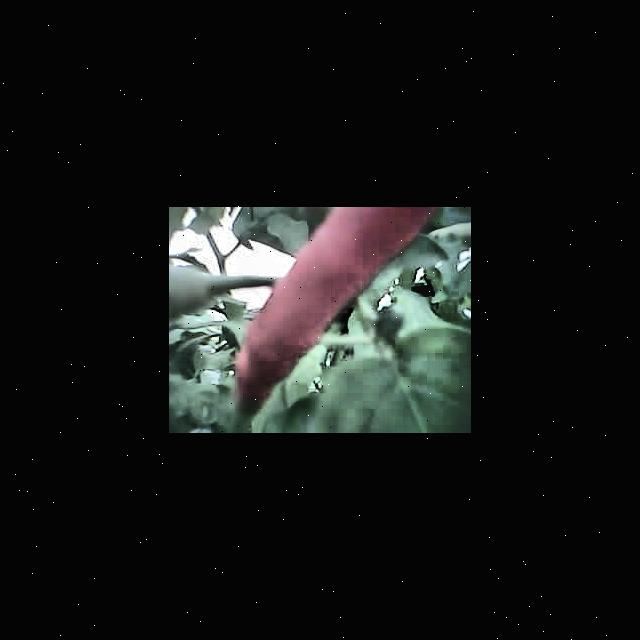Cabai: (235, 207, 426, 389)
